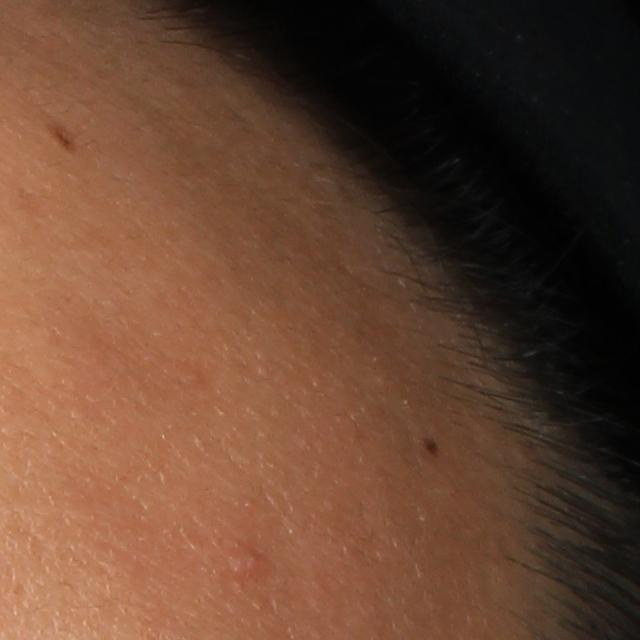nevus: (417, 435, 443, 462)
papule: (237, 546, 272, 582)
